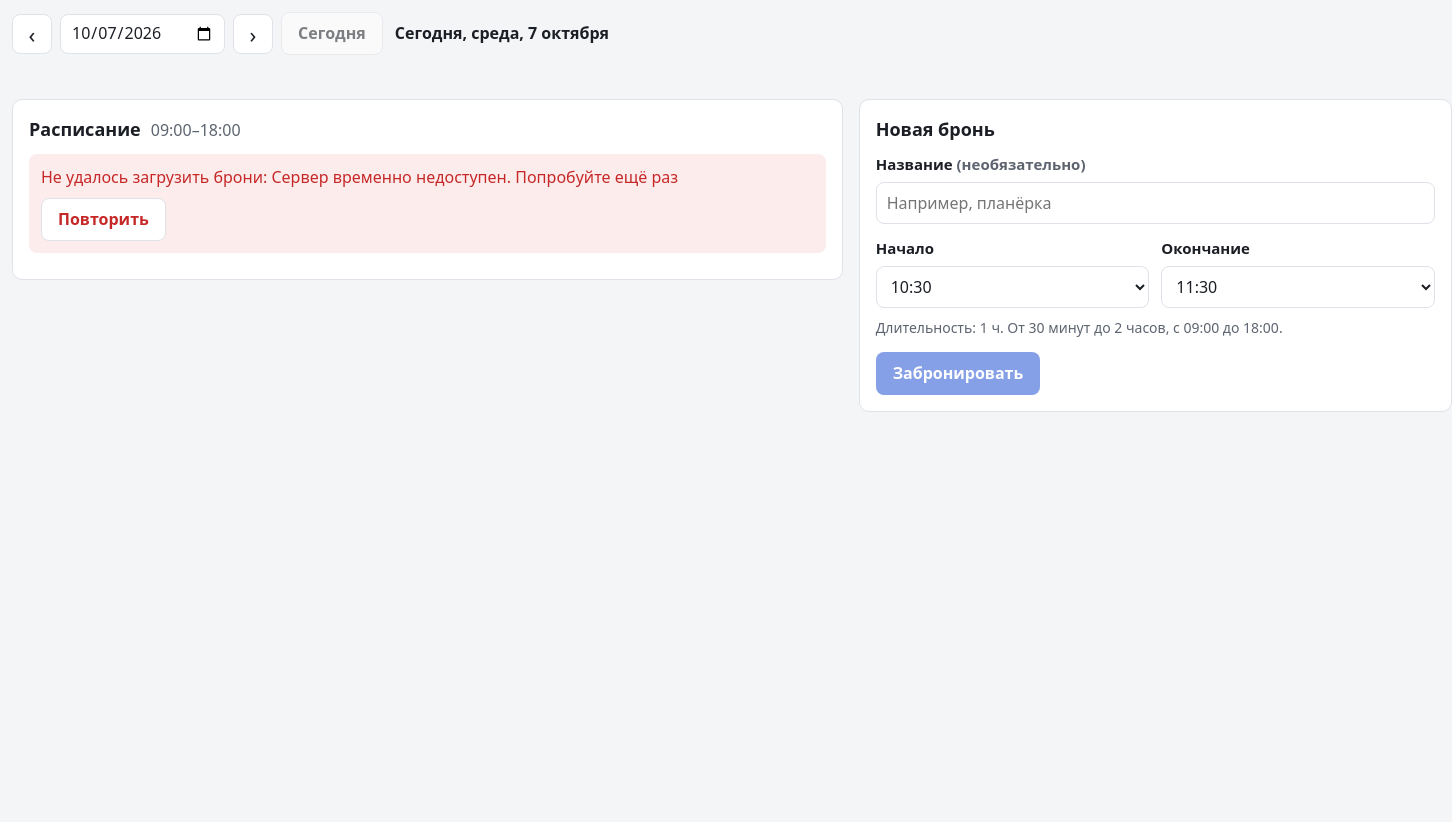
Test: BookingsPage › shows a load error and recovers on retry
The width and height of the screenshot is (1452, 822).
Check: the text "Не удалось загрузить брони" is shown, box [41, 166, 272, 188]
Step 1. Click the button "Повторить" → (103, 219), box [41, 198, 166, 241]
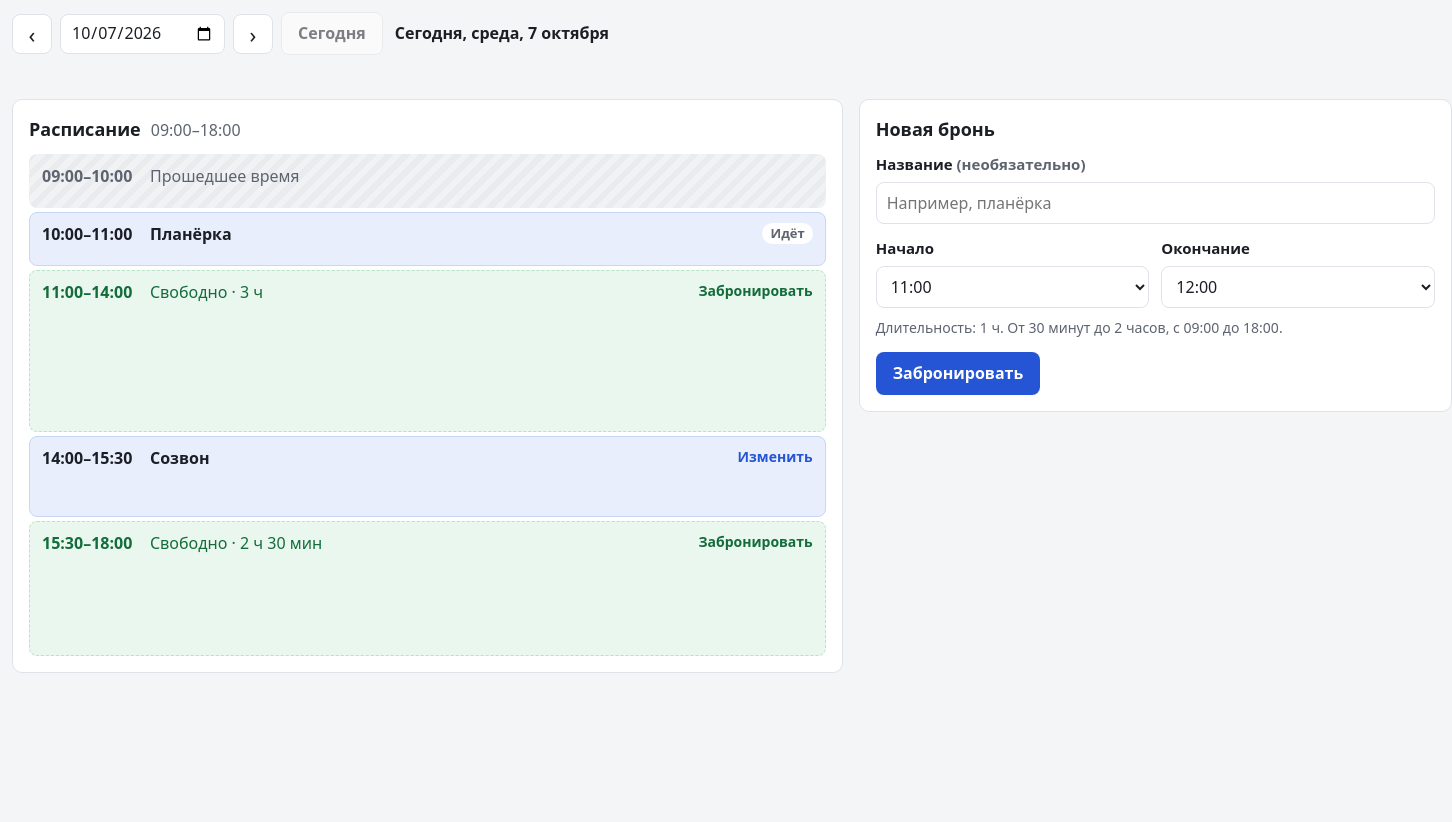
Check: the text "Созвон" is shown, box [150, 447, 210, 469]
